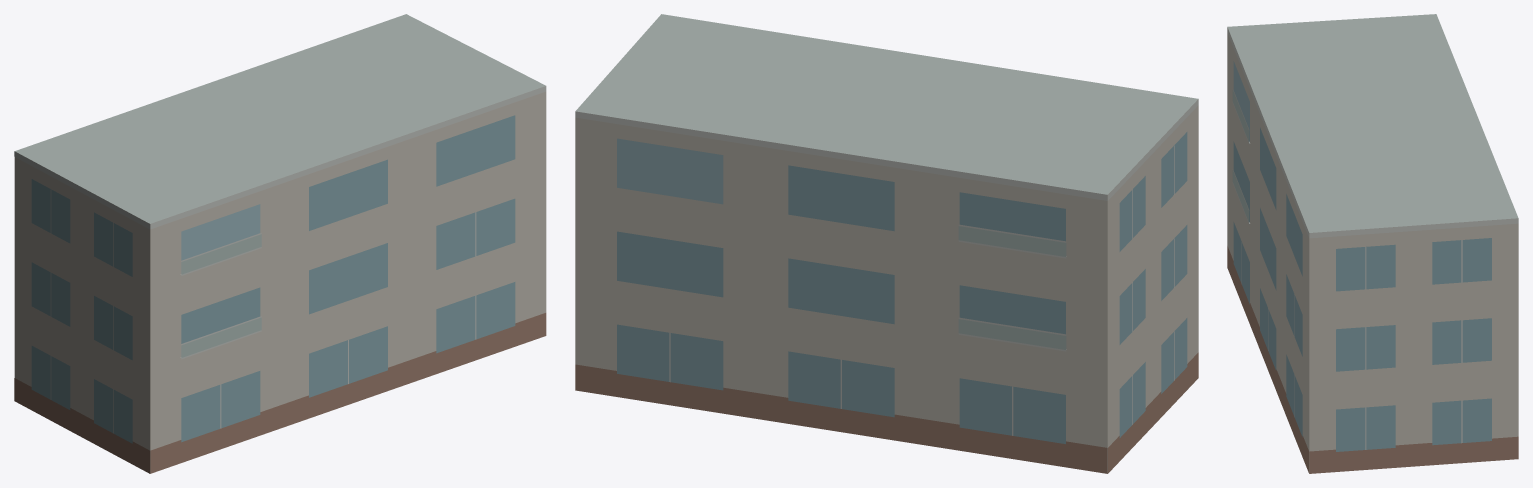
Rendered from survey-upis-32906112.glb.
The picture shows the model from 3 angles, left to right: view 1: azimuth 30°, elevation 25°; view 2: azimuth 150°, elevation 25°; view 3: azimuth 270°, elevation 25°; orthographic projection. The views are drawn at different scales.
Parts seen in each view (by area): view 1: survey-upis-32906112.tmp; view 2: survey-upis-32906112.tmp; view 3: survey-upis-32906112.tmp.
Boxes of the visible parts, bbox=[...] form: survey-upis-32906112.tmp: bbox=[14, 14, 546, 473]; survey-upis-32906112.tmp: bbox=[575, 14, 1198, 473]; survey-upis-32906112.tmp: bbox=[1227, 14, 1518, 473].
Bounding box in the file's own units: 21.27 × 10.9 × 11.95.
